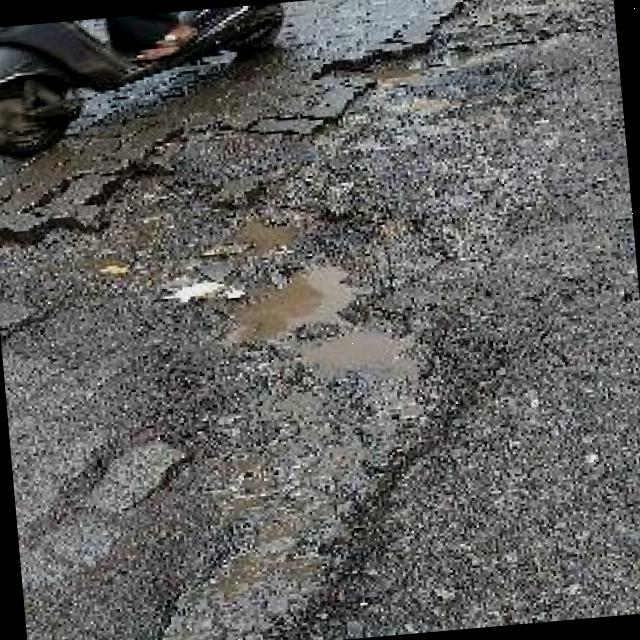stagnation: (228, 216, 368, 398)
